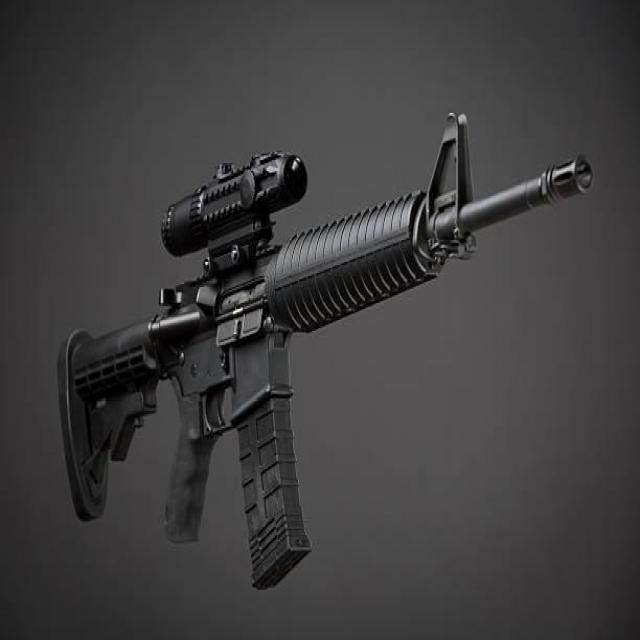heavy-weapon: (55, 110, 594, 590)
